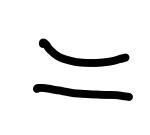eqv: (32, 38, 135, 104)
